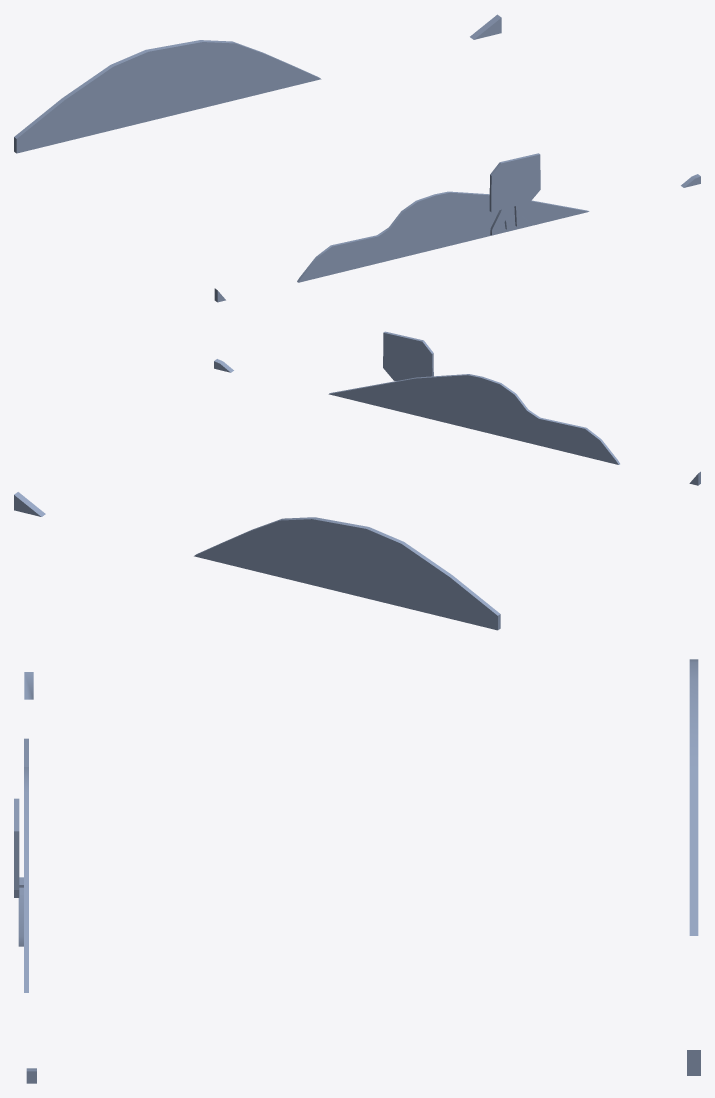
Rendered from frame_0080.glb.
3 views of the same model, one above another, from view 1: azimuth 30°, elevation 25°; view 2: azimuth 150°, elevation 25°; view 3: azimuth 270°, elevation 25° (orthographic). The views are drawn at different scales.
Parts seen in each view (by area): view 1: export_trees_001.002; view 2: export_trees_001.002; view 3: export_trees_001.002.
Part boxes in pixels (x1,y1,x2,y2): export_trees_001.002: (14,14,700,302); export_trees_001.002: (14,331,700,630); export_trees_001.002: (14,659,700,1083).
Bounding box in the file's own units: 0.4327 × 0.0622 × 0.321.
